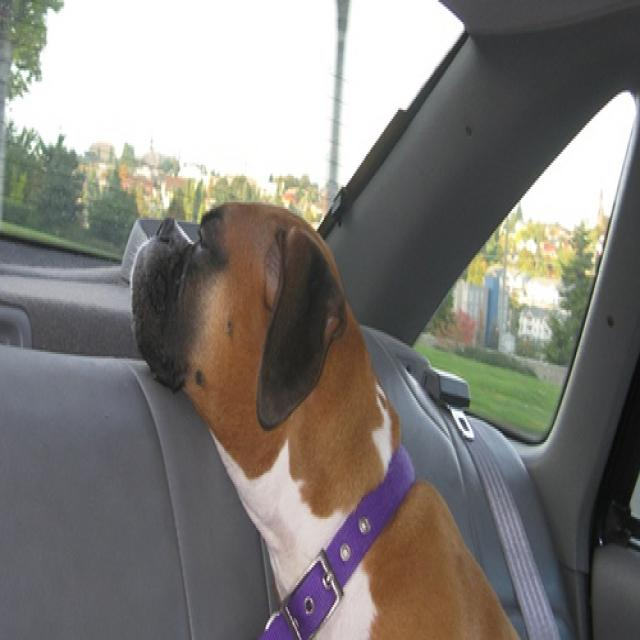dog: (127, 198, 344, 442)
